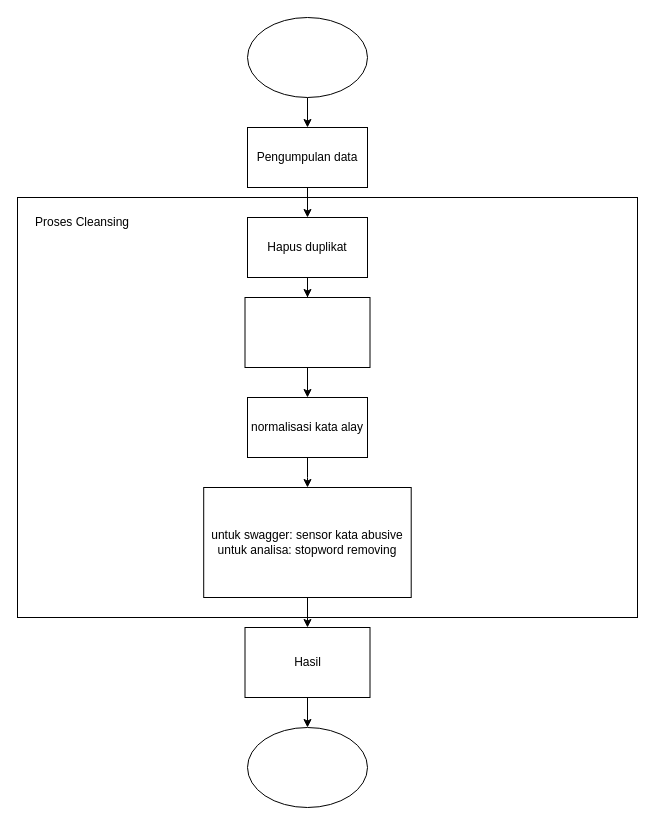
Some shapes in this 655 by 825 pixel diagram are drawn without their labels. Each missing label, with the box of its shape:
case folding: (244, 296, 370, 368)
Mulai: (246, 16, 368, 98)
Selesai: (246, 726, 368, 808)
